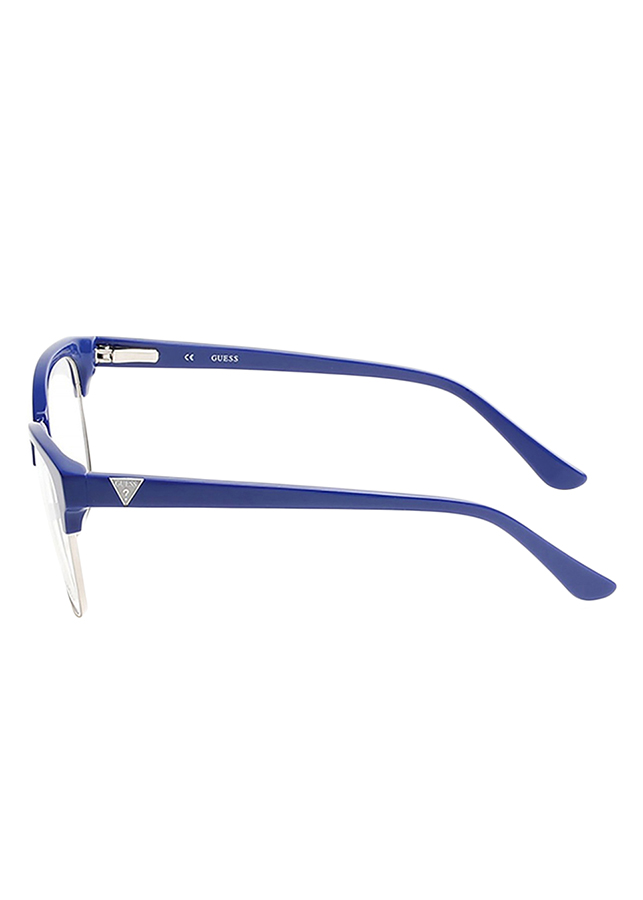Guess: (101, 471, 152, 511), (205, 349, 244, 364)
